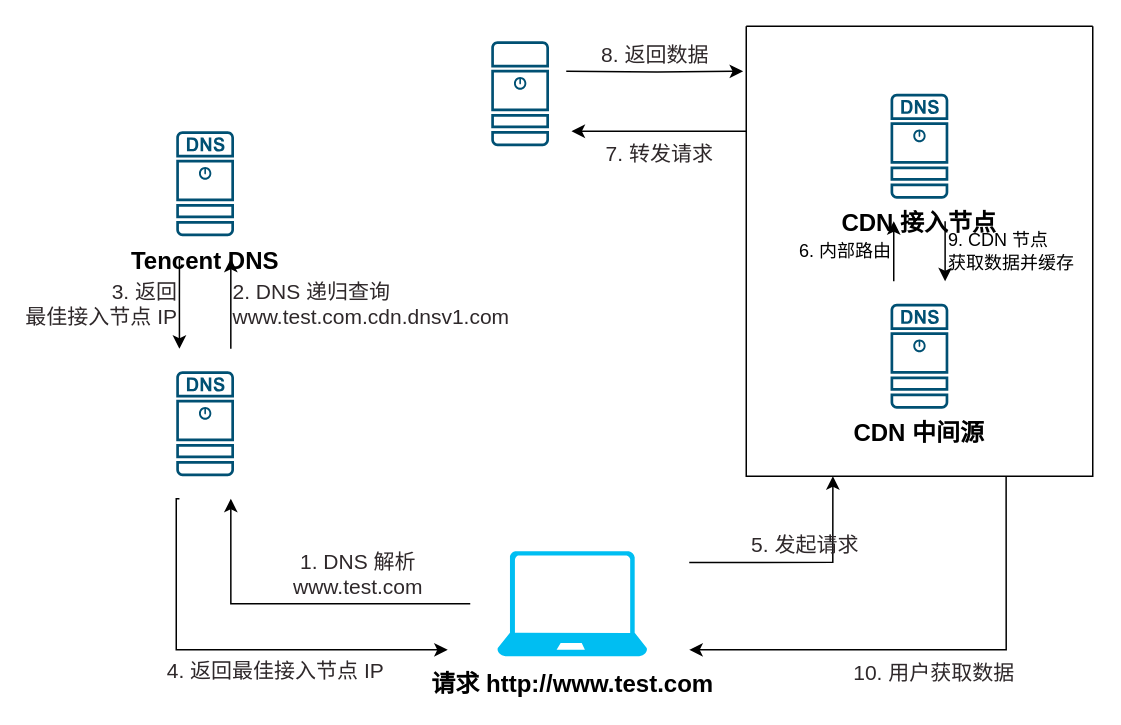
The diagram is 1121 pixels wide and 725 high, and some of its shapes have lost their labels. The centre of each missing label's shape, as x and y in pixels:
Local DNS: the point at 204,423
源站: the point at 519,93
